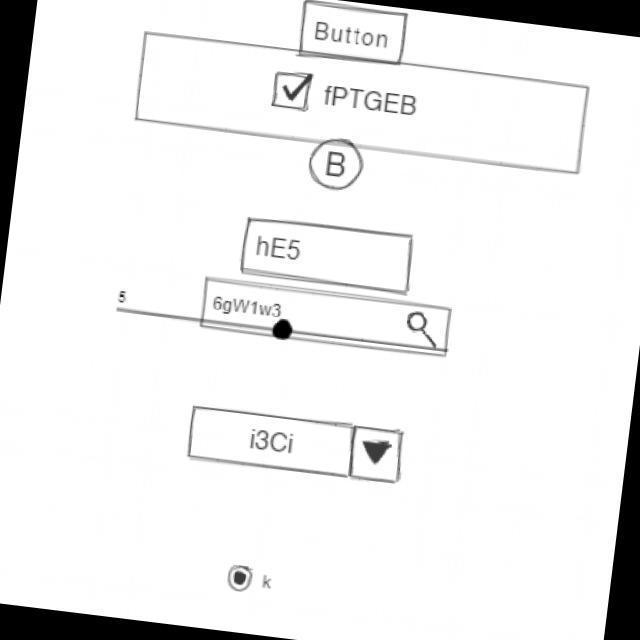button: (293, 1, 413, 71)
checkbox: (268, 67, 425, 127)
container: (130, 28, 594, 180)
icon-button: (305, 133, 368, 196)
input: (238, 213, 420, 297)
radio: (223, 560, 256, 601)
search: (198, 275, 456, 363)
select: (182, 402, 411, 491)
slider: (130, 298, 455, 364)
